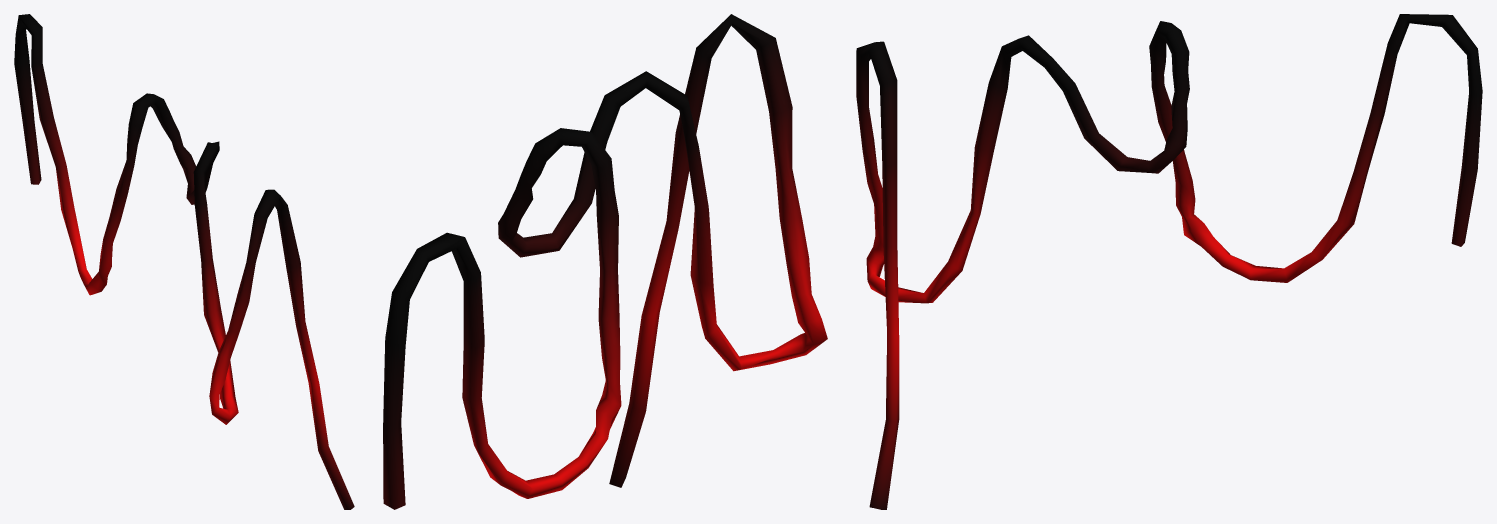
File: SM_Guts_A_Fence_C_03.fbx
3 views of the same model, side by side, from view 1: azimuth 30°, elevation 25°; view 2: azimuth 150°, elevation 25°; view 3: azimuth 270°, elevation 25° (orthographic). The views are drawn at different scales.
Parts seen in each view (by area): view 1: SM_Guts_A_Fence_C_03_LOD0; view 2: SM_Guts_A_Fence_C_03_LOD0; view 3: SM_Guts_A_Fence_C_03_LOD0.
Part boxes in pixels (box(x1,y1,x2,y2)): SM_Guts_A_Fence_C_03_LOD0: box(14, 14, 354, 509); SM_Guts_A_Fence_C_03_LOD0: box(383, 14, 827, 509); SM_Guts_A_Fence_C_03_LOD0: box(856, 14, 1482, 509).
Size of the model in its own units: 40.9 by 125 by 96.03.
